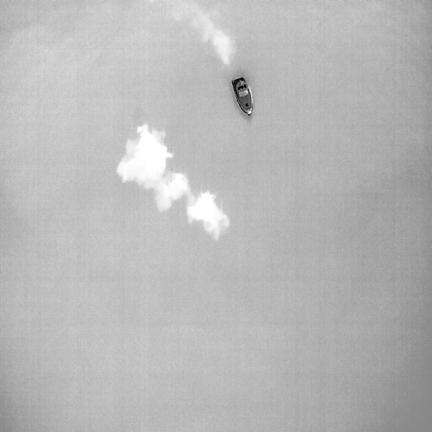flukeprints: (117, 125, 172, 188), (188, 192, 229, 239), (151, 172, 191, 211)
